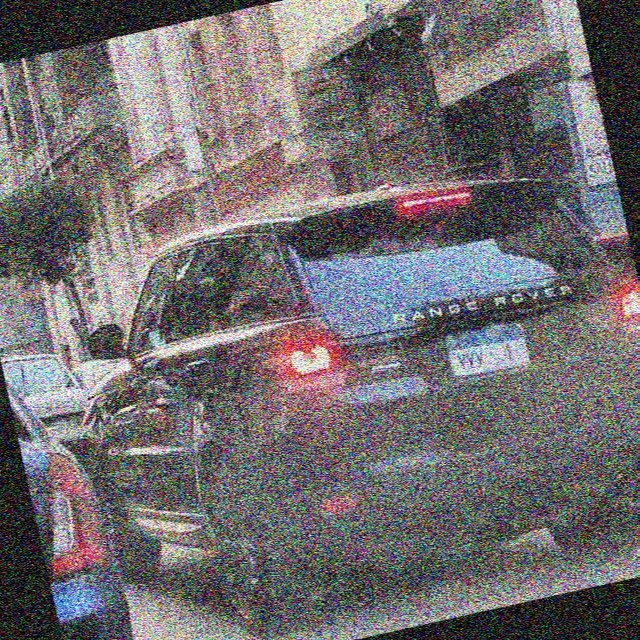License Plate: (439, 310, 535, 385)
